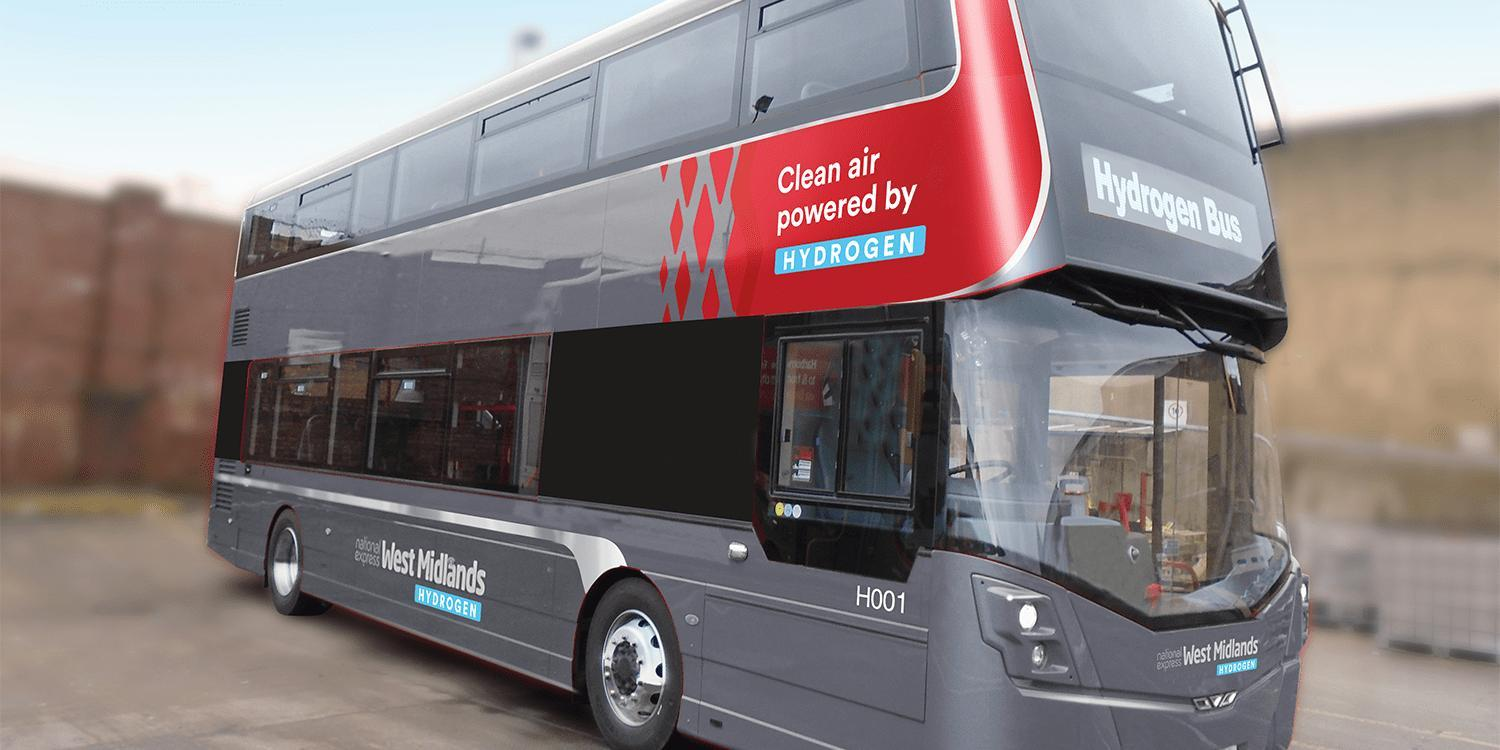Bus: (206, 0, 1306, 749)
